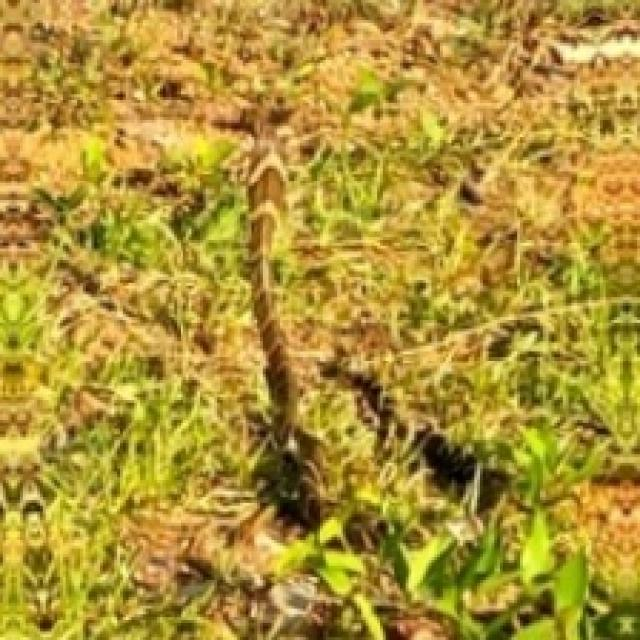king cobra: (249, 134, 320, 529)
